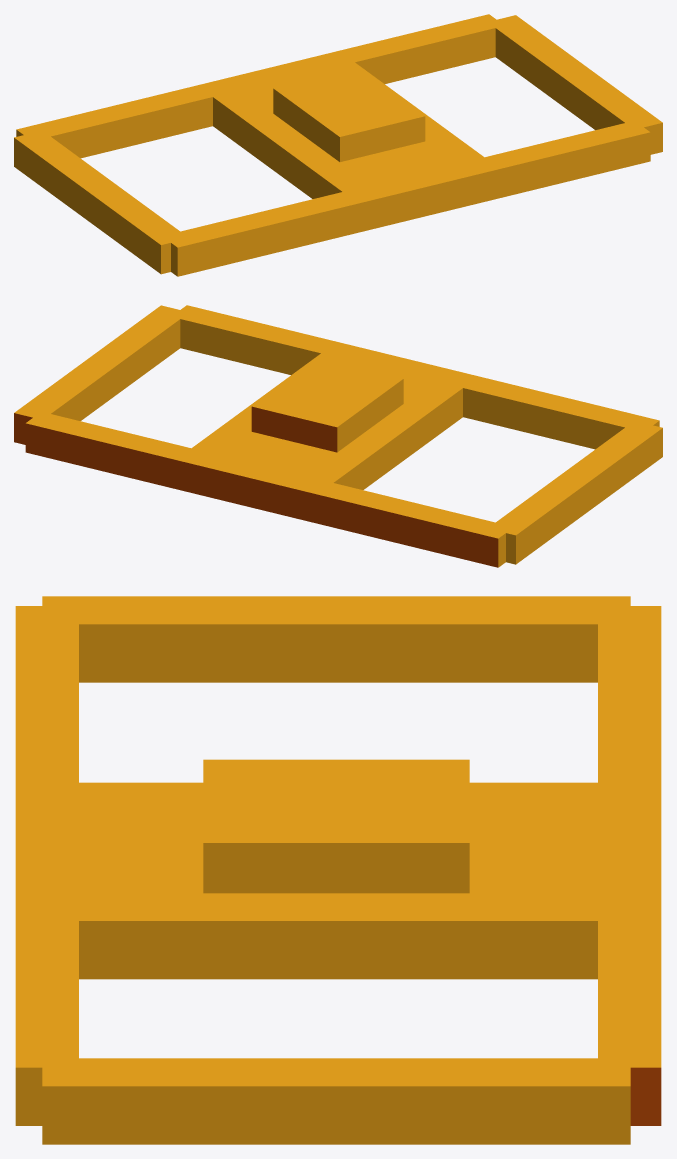
File: LoaderPart3.fbx
3 views of the same model, one above another, from view 1: azimuth 30°, elevation 25°; view 2: azimuth 150°, elevation 25°; view 3: azimuth 270°, elevation 25° (orthographic). The views are drawn at different scales.
Visible parts, largest first — view 1: LoaderPart3; view 2: LoaderPart3; view 3: LoaderPart3.
Boxes of the visible parts, x1=… form: LoaderPart3: x1=14, y1=14, x2=662, y2=276; LoaderPart3: x1=14, y1=305, x2=662, y2=567; LoaderPart3: x1=15, y1=596, x2=661, y2=1144.
Size of the model in its own units: 49.1 by 5.08 by 27.35.
